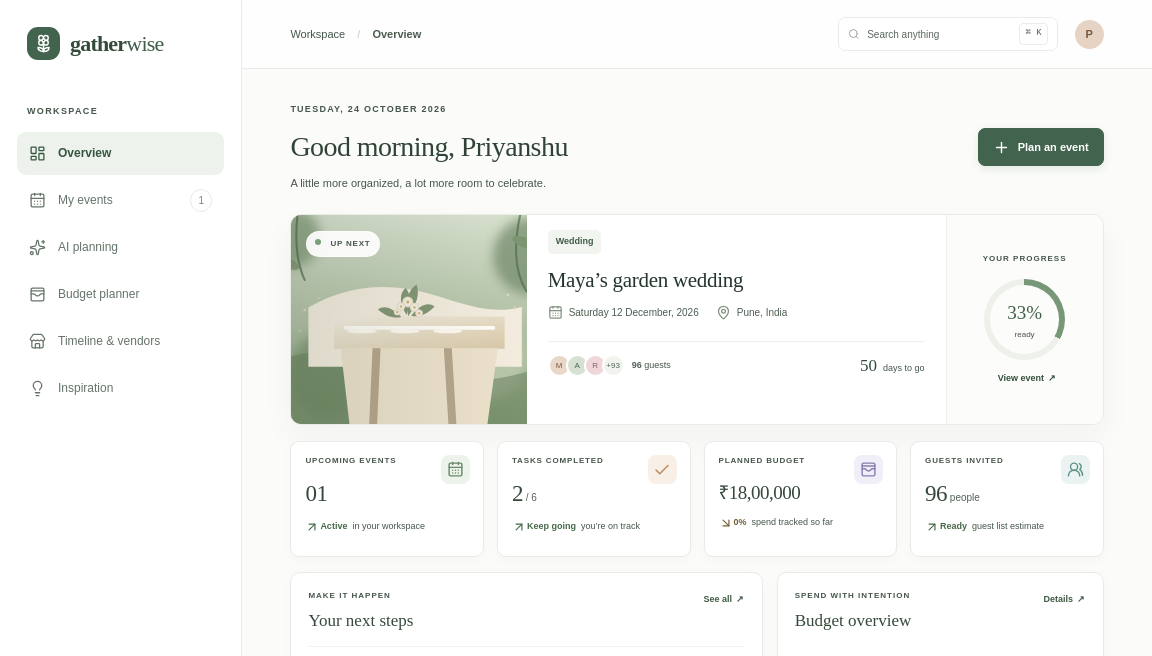
it: planner workspace › shows provider errors without losing the saved event
Click the button "Inspiration" at (120, 388), box [17,366,224,410]
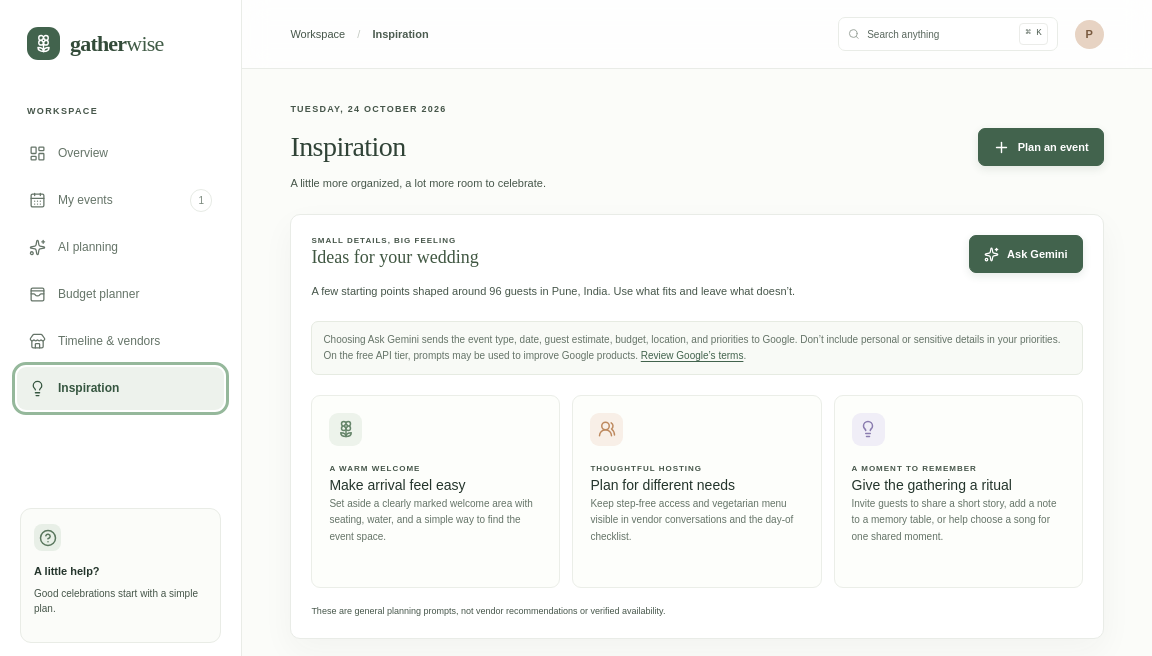
Click the button "Ask Gemini" at (1026, 254), box [969,235,1083,273]
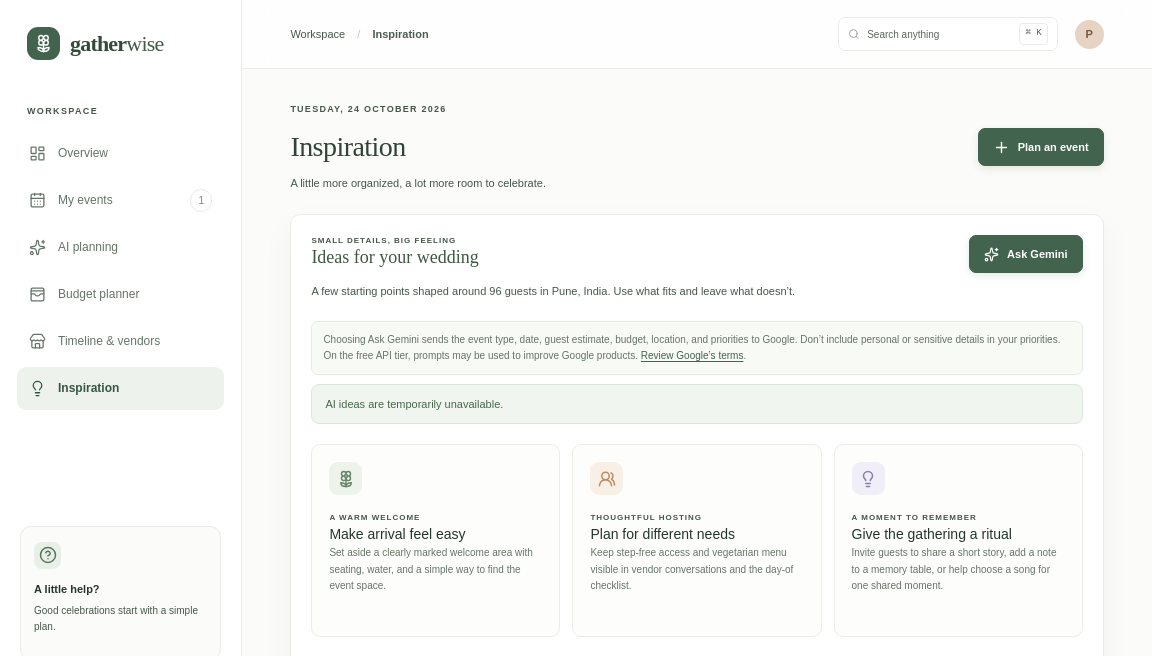
Check: the message reads "AI ideas are temporarily unavailable.", box [325,398,503,410]
